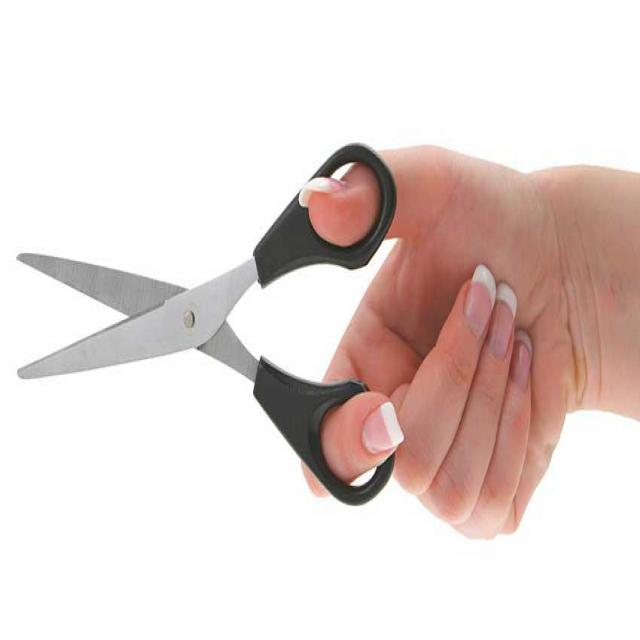scissors: (14, 142, 396, 507)
